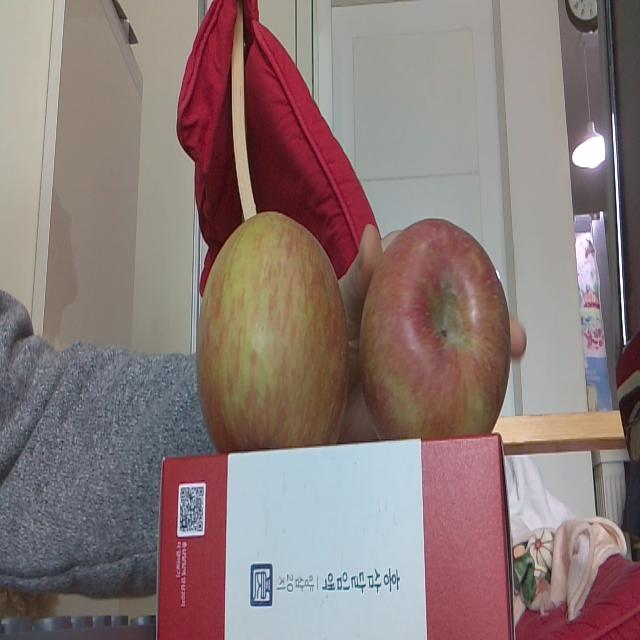apple: (196, 212, 353, 450), (362, 217, 512, 437)
